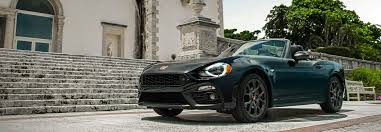car: (139, 38, 346, 125)
